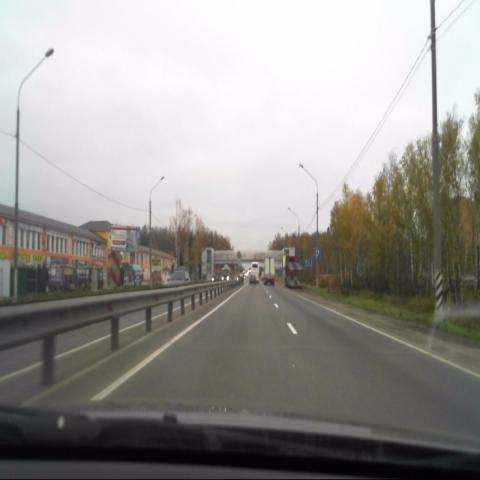5_15_3: (314, 246, 321, 258)
